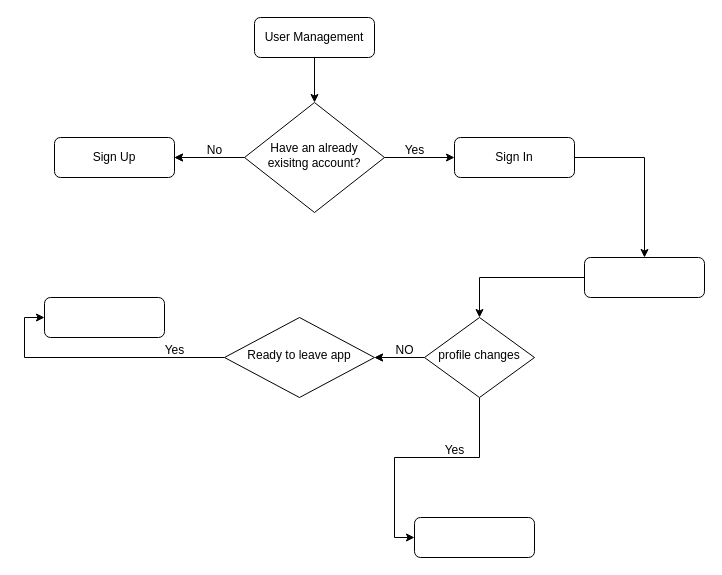
The diagram is 722 pixels wide and 575 high, and some of its shapes have lost their labels. The box of each missing label's shape, as (x1, y1, x2, y2) in pixels:
Profile Management: (584, 256, 704, 298)
Sign out: (44, 296, 164, 338)
Update Profile: (414, 516, 534, 558)
